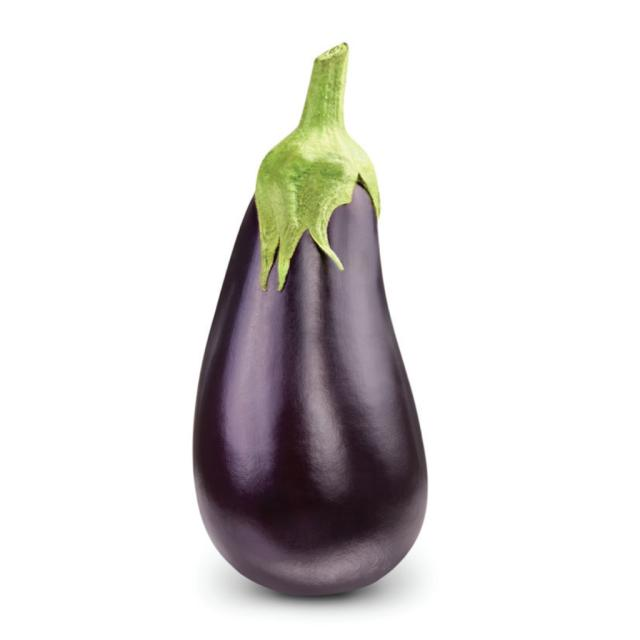Eggplant: (182, 80, 436, 604)
